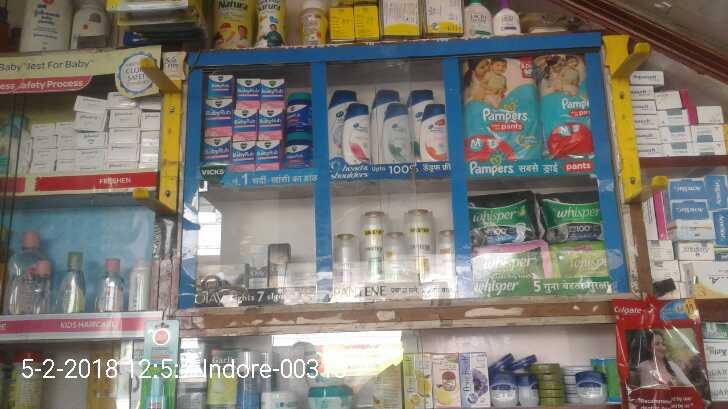beauty: (418, 102, 451, 161), (383, 103, 416, 162), (341, 106, 374, 165)
pharmacy: (198, 74, 317, 170), (460, 58, 535, 160), (535, 54, 603, 160), (460, 191, 542, 245), (532, 197, 612, 247), (473, 246, 547, 277), (545, 249, 610, 278)
